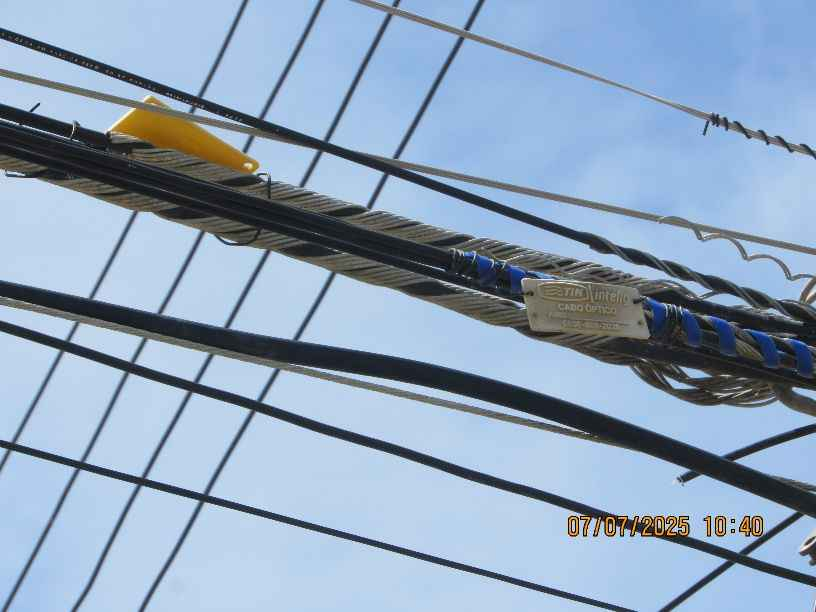fibra_optica: (54, 80, 391, 275), (460, 222, 812, 384)
